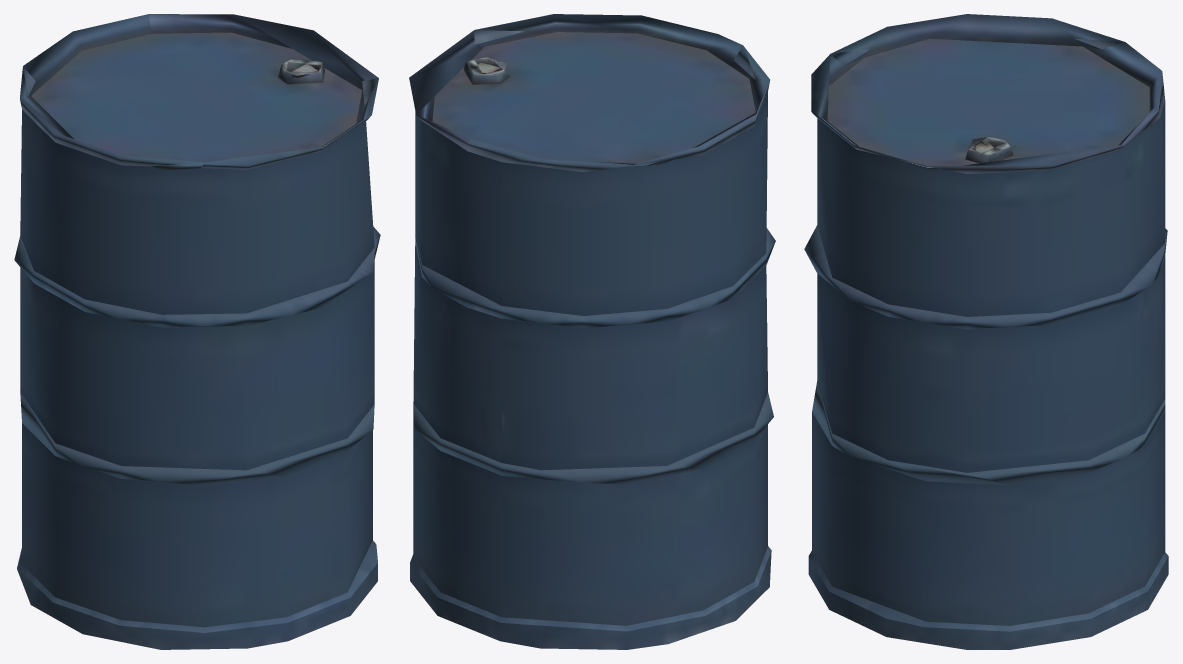
Rendered from barrel_03_lod2.glb.
The picture shows the model from 3 angles, left to right: view 1: azimuth 30°, elevation 25°; view 2: azimuth 150°, elevation 25°; view 3: azimuth 270°, elevation 25°; orthographic projection.
Parts seen in each view (by area): view 1: barrel_03; view 2: barrel_03; view 3: barrel_03.
Part boxes in pixels (<box>): barrel_03: <box>14,14,380,649</box>; barrel_03: <box>409,14,775,649</box>; barrel_03: <box>804,14,1168,649</box>.
Size of the model in its own units: 0.6265 by 0.9305 by 0.6311.
1 material, 1 textured.
